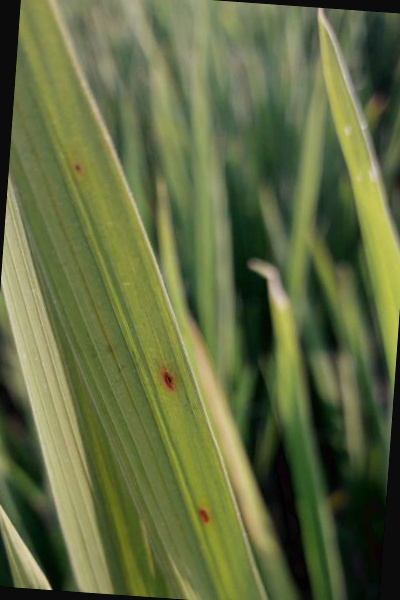Bacterial_Leaf_Blight: (154, 352, 182, 397), (68, 147, 93, 183), (188, 501, 215, 528)
